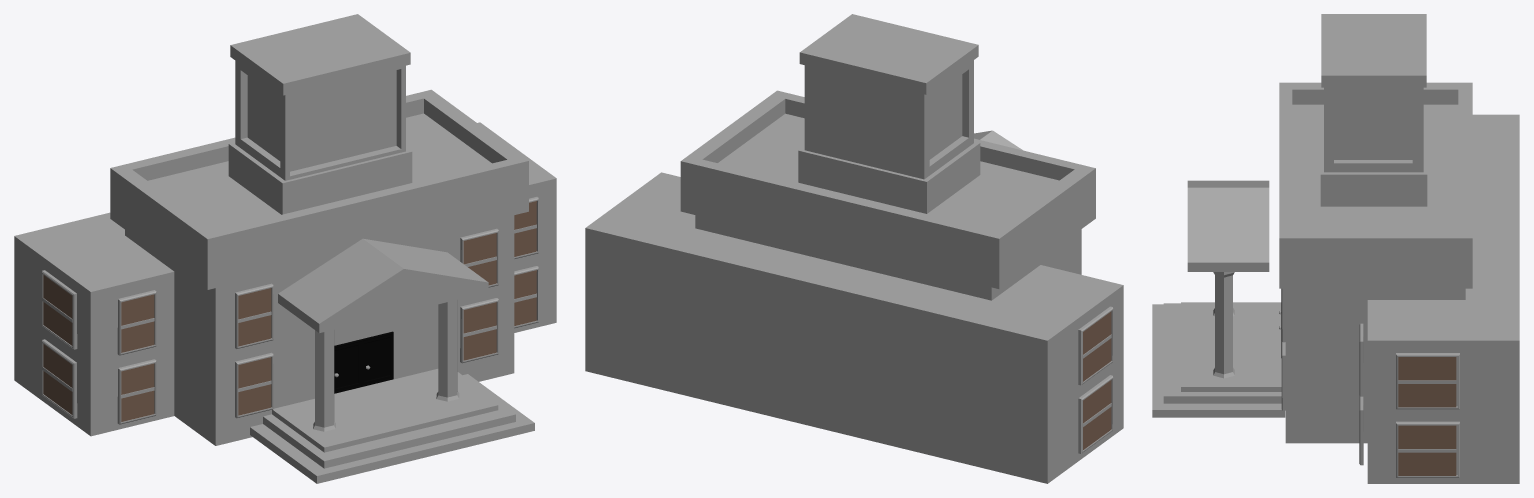
The model's file is Office.fbx.
3 views of the same model, side by side, from view 1: azimuth 30°, elevation 25°; view 2: azimuth 150°, elevation 25°; view 3: azimuth 270°, elevation 25° (orthographic).
Parts seen in each view (by area): view 1: pCube124, pCube126, pCube125, polySurface529, polySurface528, polySurface531, polySurface525, polySurface530, polySurface534, polySurface535, pCylinder51, pCylinder50 (+5 smaller); view 2: pCube124, polySurface535, polySurface534; view 3: pCube124, pCube126, pCube125, polySurface533, polySurface532, pCylinder50.
Boxes of the visible parts, left/top/right/bottom form: pCube124: left=14, top=14, right=556, bottom=445; pCube126: left=250, top=369, right=534, bottom=483; pCube125: left=278, top=238, right=488, bottom=332; polySurface529: left=117, top=290, right=156, bottom=355; polySurface528: left=117, top=359, right=156, bottom=424; polySurface531: left=235, top=352, right=273, bottom=418; polySurface525: left=460, top=298, right=498, bottom=363; polySurface530: left=235, top=283, right=273, bottom=348; polySurface534: left=42, top=270, right=77, bottom=349; polySurface535: left=42, top=339, right=77, bottom=418; pCylinder51: left=313, top=329, right=335, bottom=431; pCylinder50: left=436, top=299, right=459, bottom=401; pCube124: left=585, top=14, right=1123, bottom=483; polySurface535: left=1078, top=375, right=1113, bottom=453; polySurface534: left=1078, top=306, right=1113, bottom=385; pCube124: left=1279, top=14, right=1519, bottom=483; pCube126: left=1152, top=302, right=1285, bottom=417; pCube125: left=1187, top=180, right=1269, bottom=271; polySurface533: left=1396, top=421, right=1459, bottom=477; polySurface532: left=1396, top=353, right=1459, bottom=409; pCylinder50: left=1213, top=272, right=1234, bottom=378.
Size of the model in its own units: 192 by 127 by 130.
